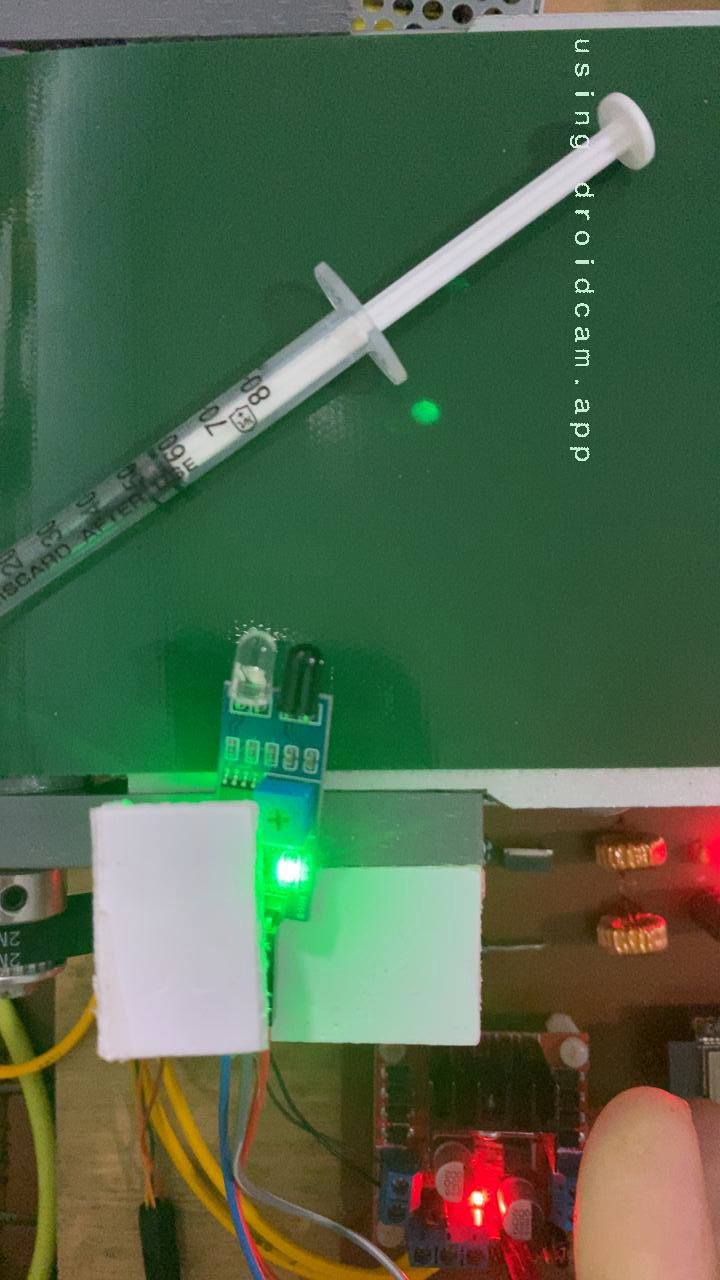syringe: (157, 85, 664, 488)
